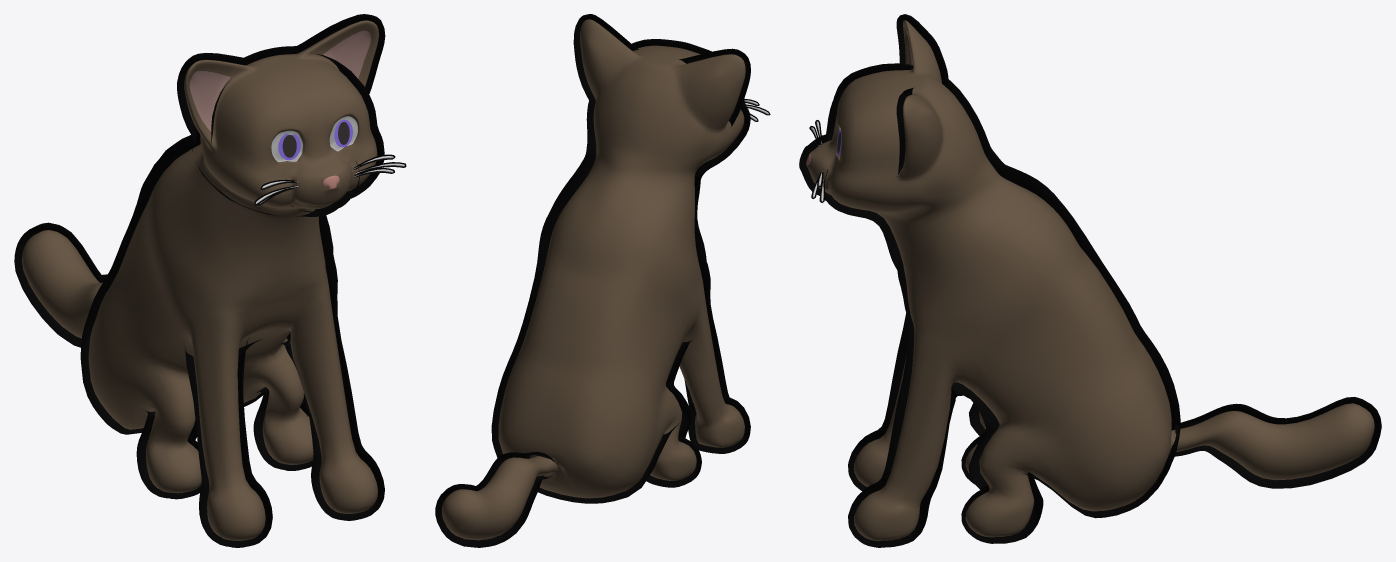
Rendered from cat_sit.glb.
3 renders of one model, left to right at view 1: azimuth 30°, elevation 25°; view 2: azimuth 150°, elevation 25°; view 3: azimuth 270°, elevation 25°, orthographic. The views are drawn at different scales.
Visible parts, largest first — view 1: Cube.001, Cube.007, Cube.011, Circle.001; view 2: Cube.001, Cube.007; view 3: Cube.001, Cube.007.
Part boxes in pixels (x1=…): Cube.001: x1=22, y1=20, x2=378, y2=540; Cube.007: x1=14, y1=14, x2=385, y2=547; Cube.011: x1=254, y1=154, x2=406, y2=205; Circle.001: x1=278, y1=133, x2=300, y2=160; Cube.001: x1=442, y1=19, x2=745, y2=540; Cube.007: x1=435, y1=14, x2=750, y2=547; Cube.001: x1=806, y1=20, x2=1374, y2=541; Cube.007: x1=799, y1=14, x2=1381, y2=547.
Bounding box in the file's own units: 0.3107 × 0.7006 × 0.8026.
